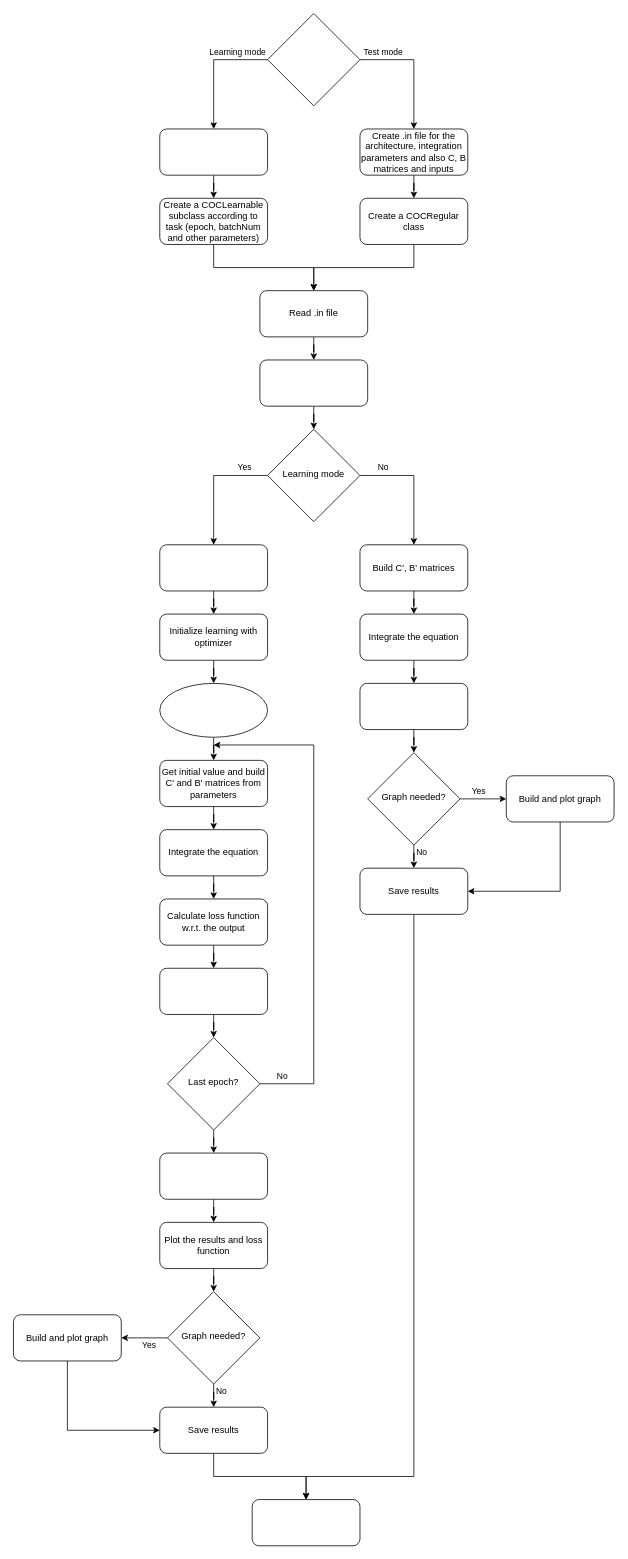
Image size: 628x1559. Some labels were removed from this diagram. The centre of each missing label's shape, as x and y in pixels:
"Build model" goes at (213,567).
"Build P matrix" goes at (313,382).
"Choose mode for the simultaion" goes at (313,59).
"Create .in file for the architecture and integration parameters" goes at (213,151).
"Finish" goes at (305,1522).
"Plot results" goes at (413,706).
"Post processing" goes at (213,1175).
"Start the epochs" goes at (213,710).
"Using the loss function, train the model and prune if needed" goes at (213,991).
